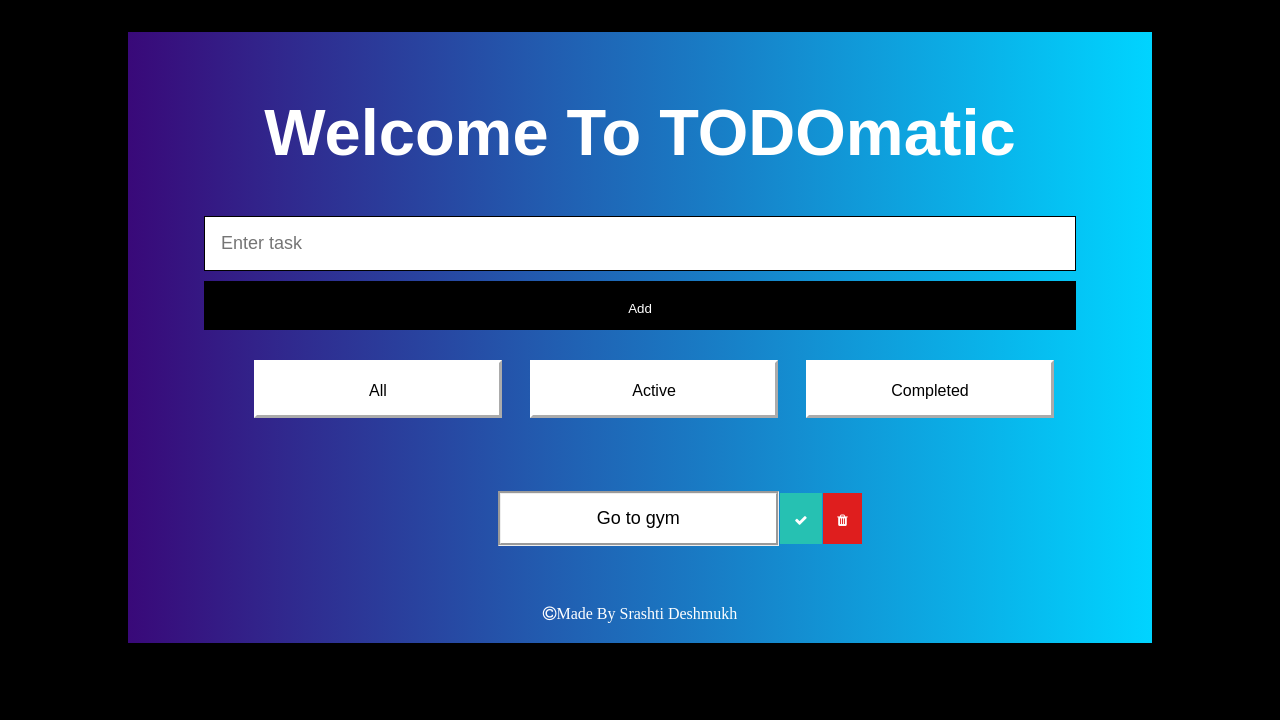
it: Checking all functionalities › Should filter the active and incomplete tasks › Should show all the tasks
Click the button "All".
click(378, 389)  # box [254,360,502,418]
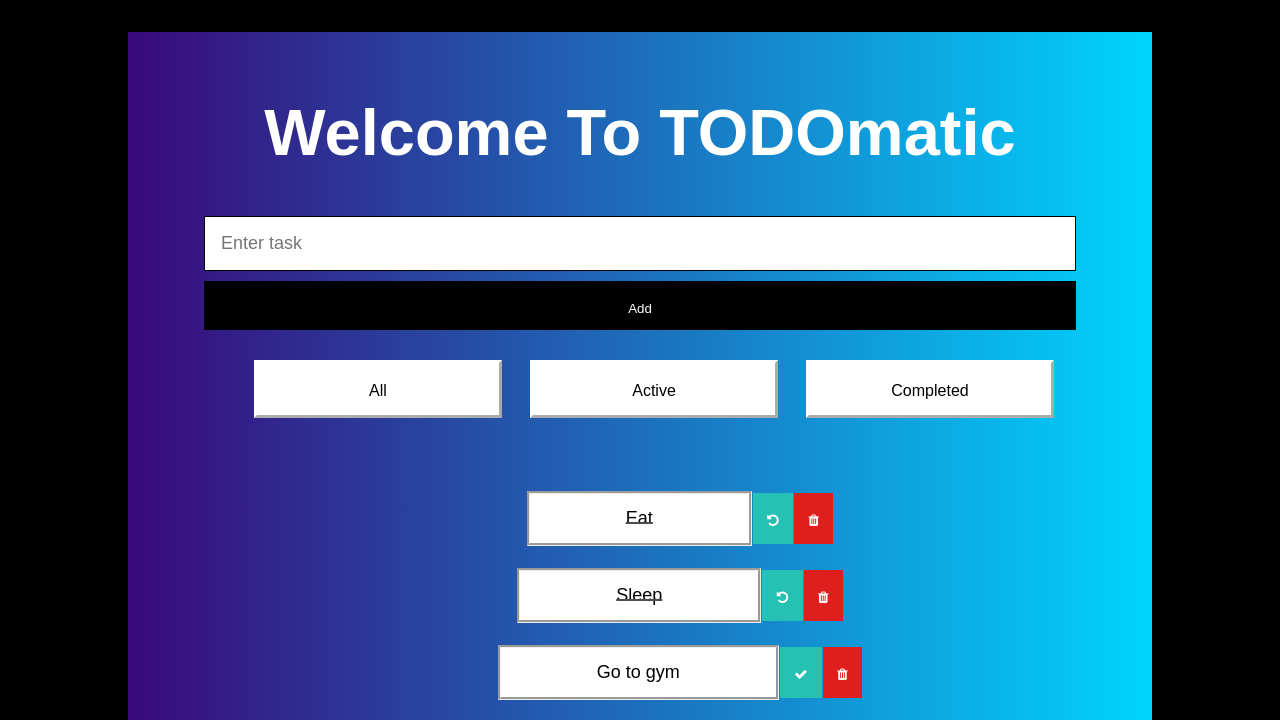
Expected: the number of lists with class "taskList" is 3, [527,491,833,546]; [517,568,843,623]; [498,645,862,700]
